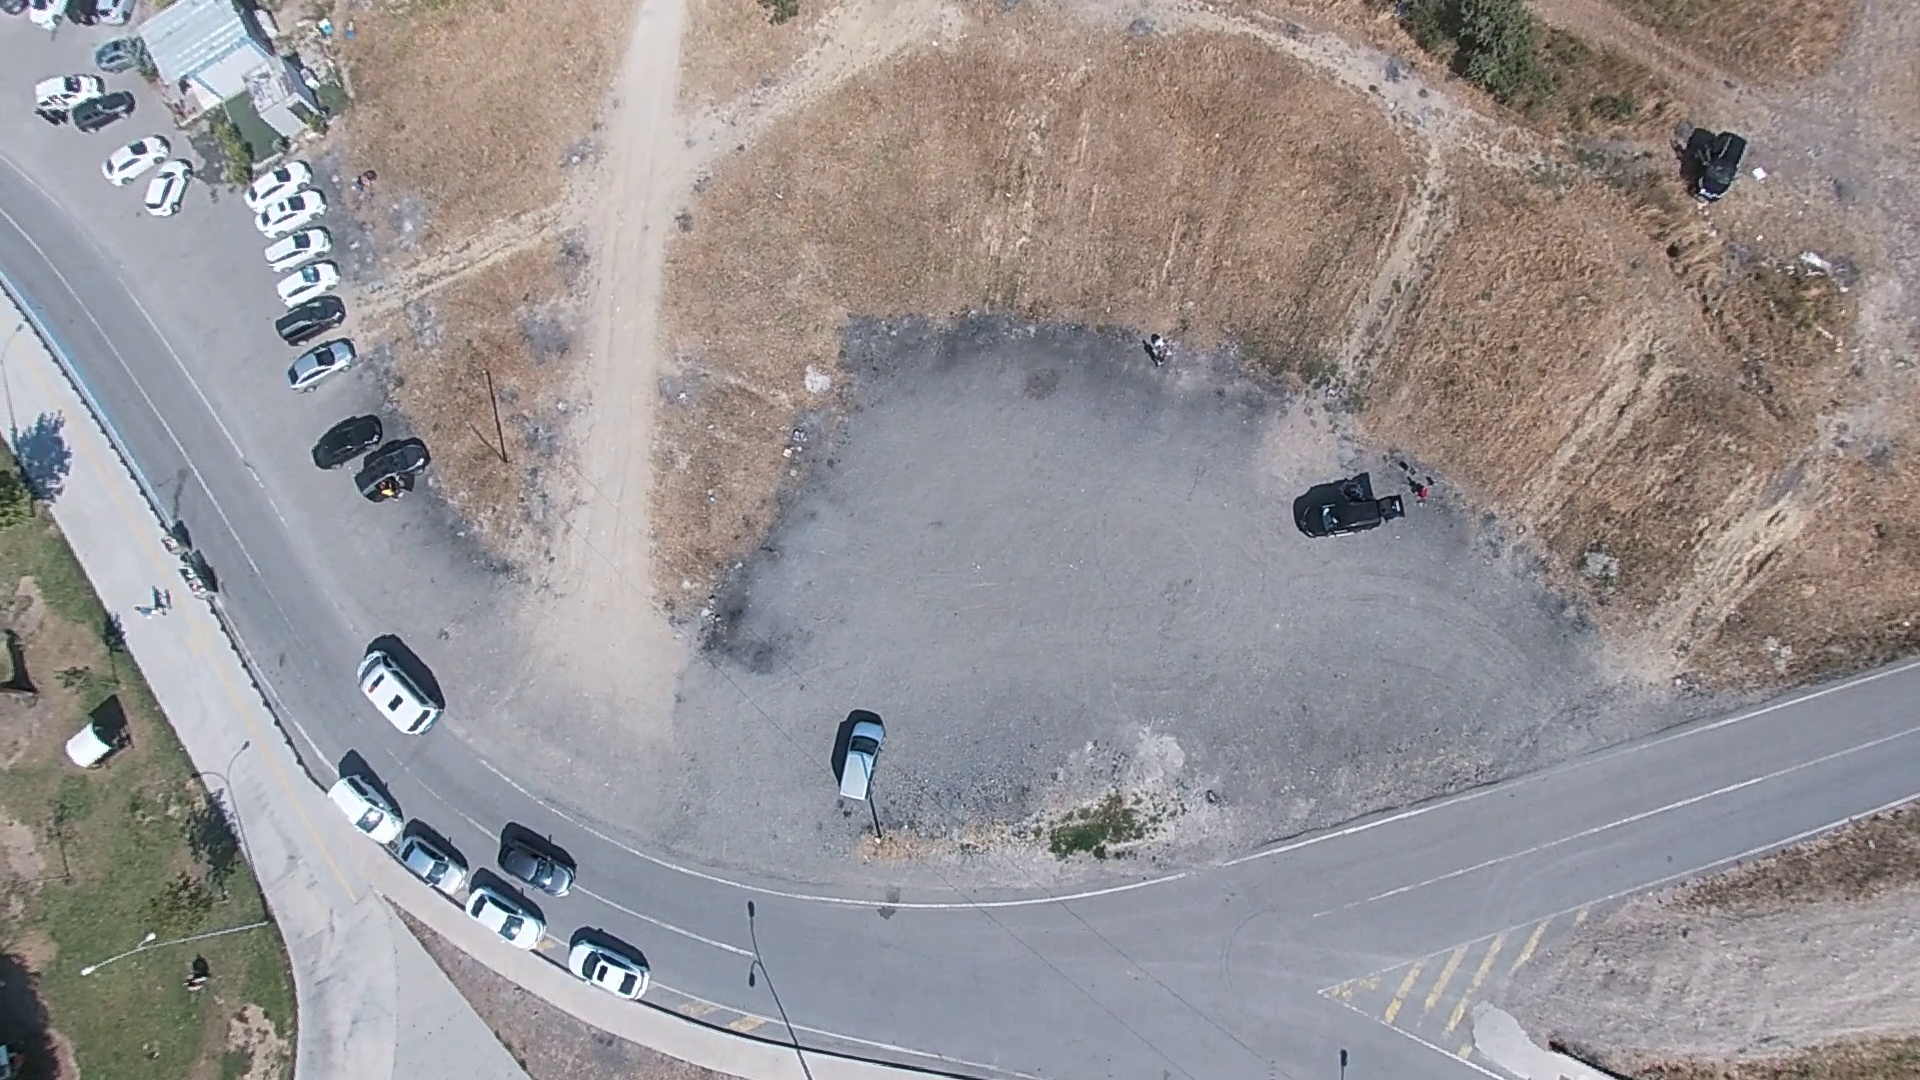arac: (355, 635, 442, 740), (492, 821, 579, 909), (567, 928, 650, 1004), (829, 712, 884, 821), (279, 335, 348, 385), (135, 163, 182, 214)
insan: (1146, 328, 1176, 369), (185, 951, 212, 991)
